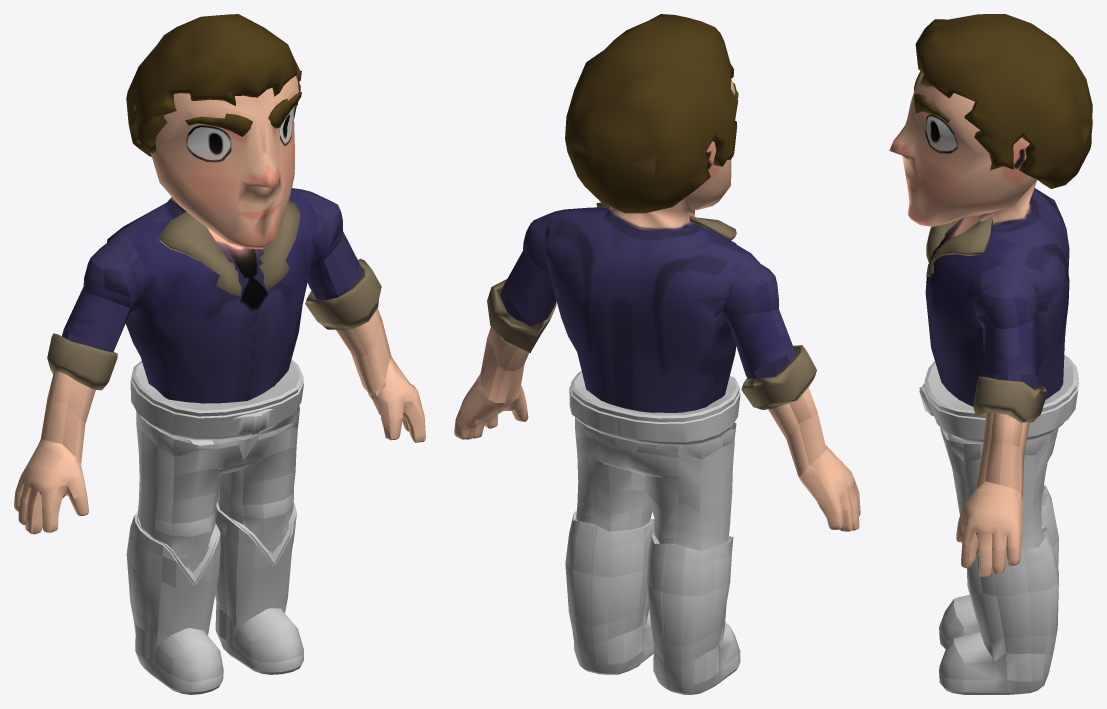
Rendered from Pepe.fbx.
3 renders of one model, left to right at view 1: azimuth 30°, elevation 25°; view 2: azimuth 150°, elevation 25°; view 3: azimuth 270°, elevation 25°, orthographic.
Visible parts, largest first — view 1: PEPE; view 2: PEPE; view 3: PEPE.
Boxes of the visible parts, x1=… form: PEPE: x1=14, y1=14, x2=425, y2=694; PEPE: x1=454, y1=14, x2=860, y2=694; PEPE: x1=889, y1=14, x2=1092, y2=694.
Size of the model in its own units: 196 by 304 by 87.17.
